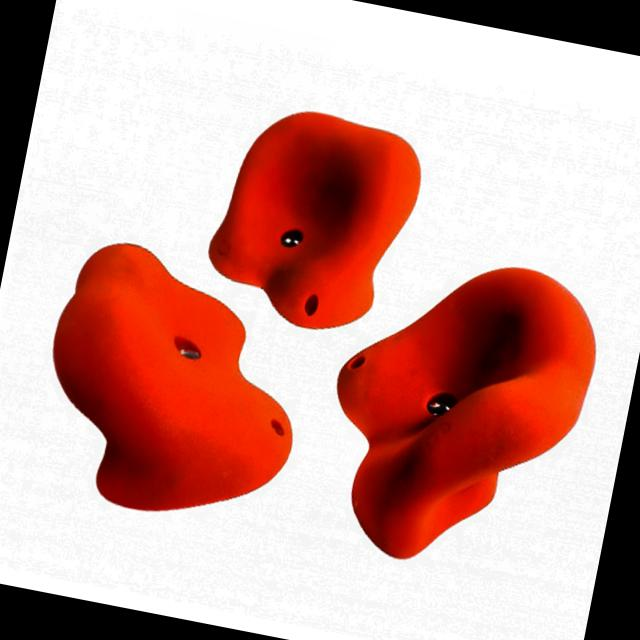Hold: (324, 250, 609, 573), (34, 221, 317, 542), (190, 103, 445, 353)
